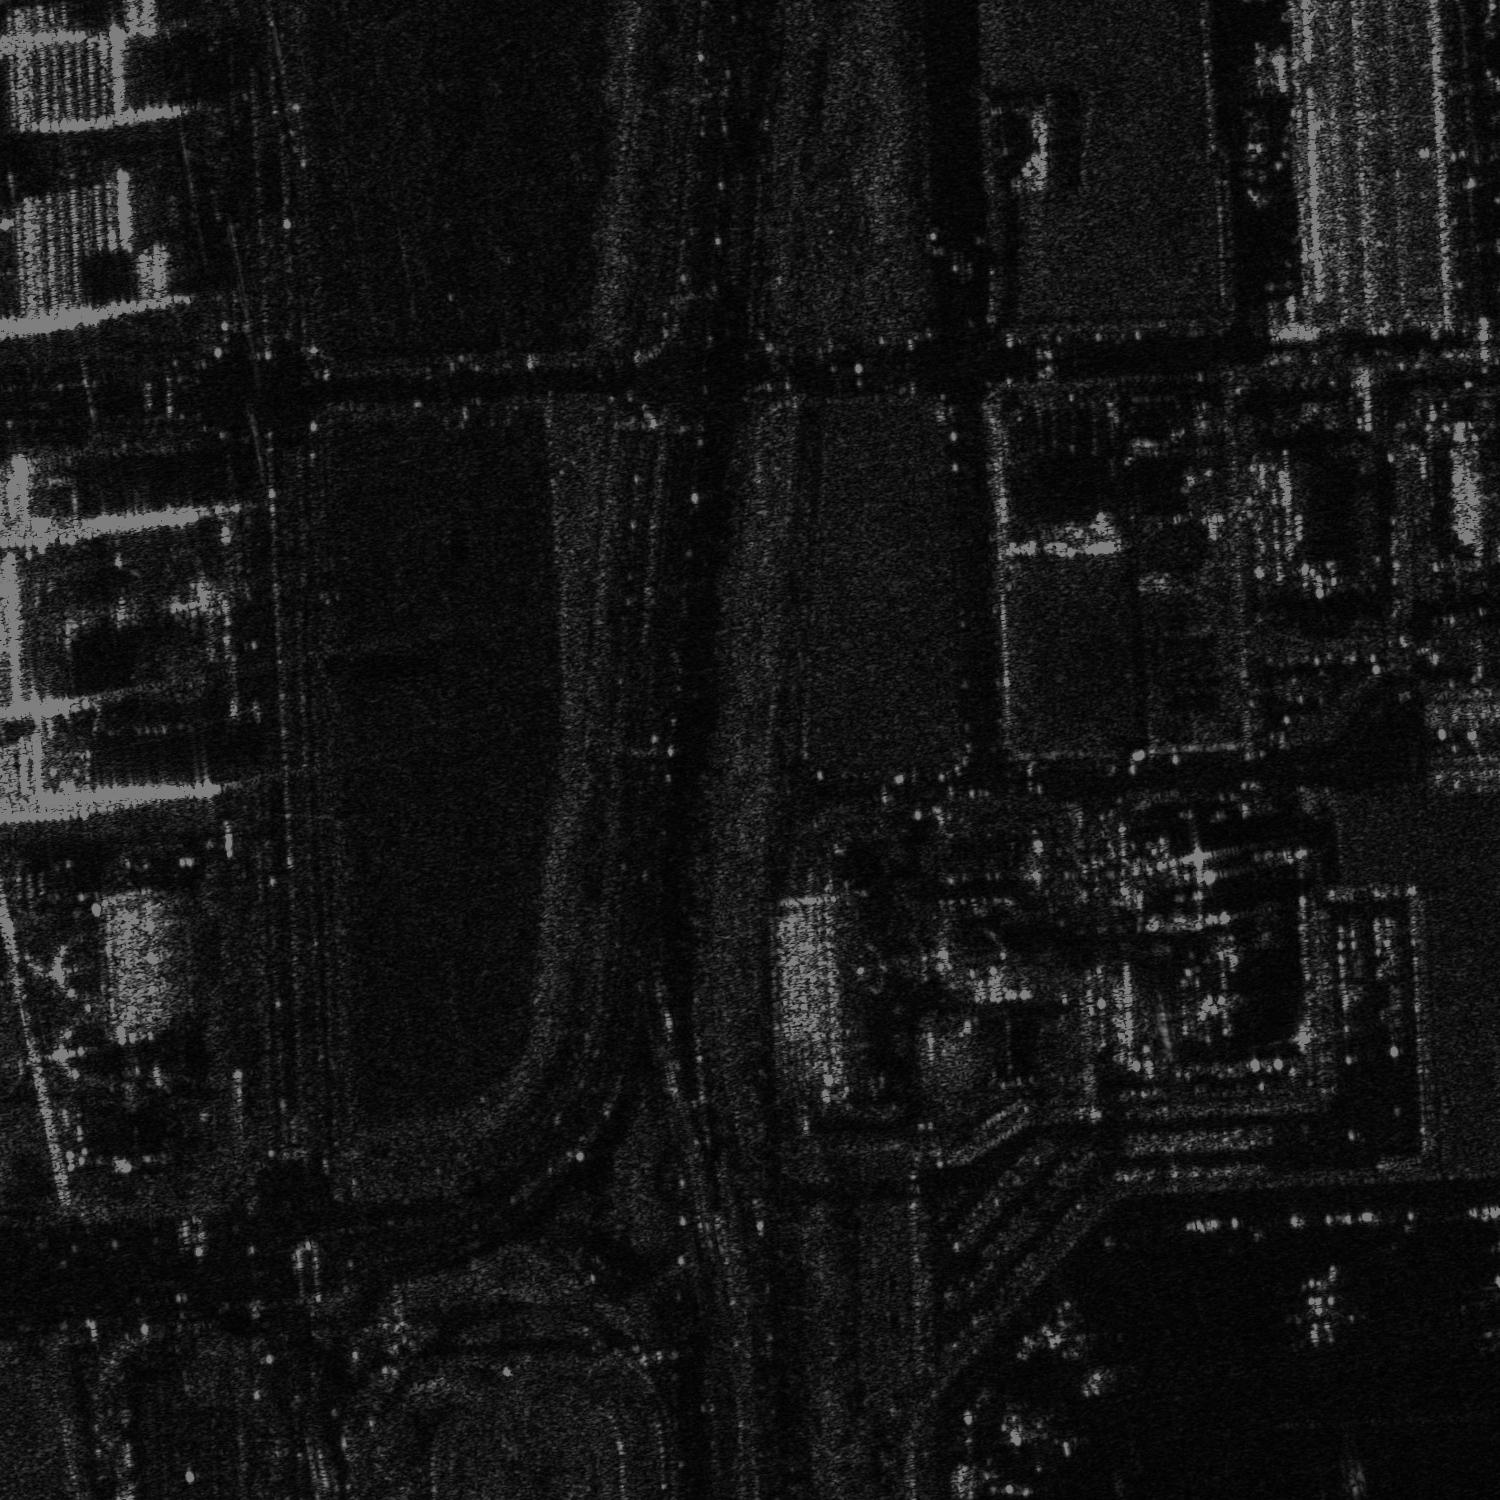A220: (990, 1396, 1100, 1479)
Boeing737: (1275, 1257, 1374, 1354)
